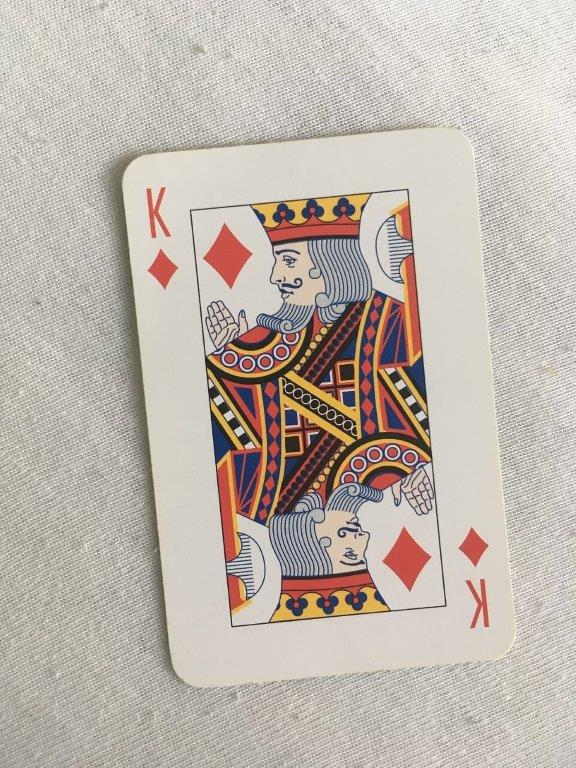KD: (118, 123, 521, 692)
